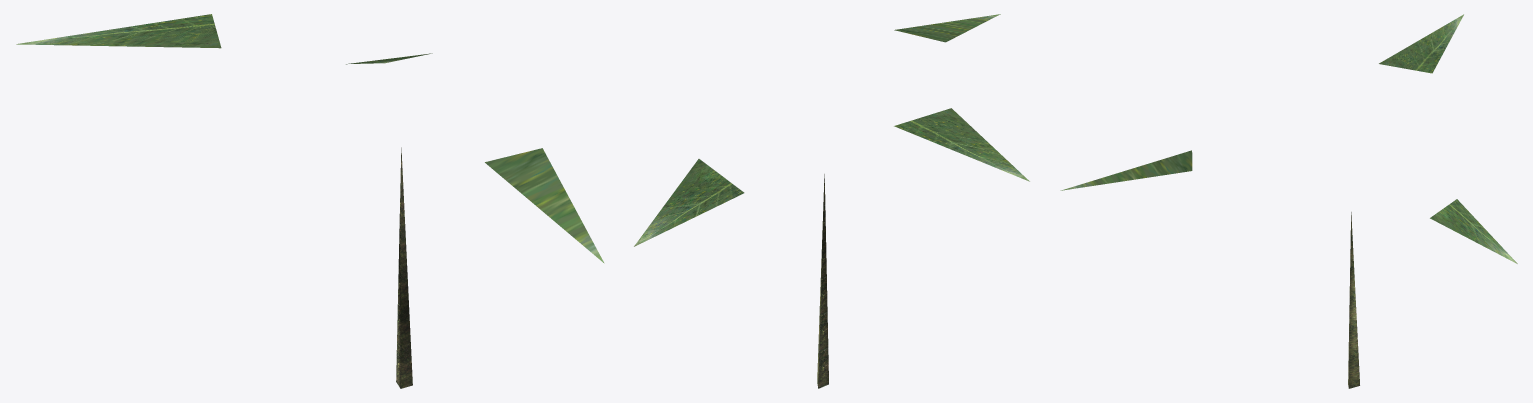
The model's file is leaf_smallflora_a1_l3.fbx.
3 renders of one model, left to right at view 1: azimuth 30°, elevation 25°; view 2: azimuth 150°, elevation 25°; view 3: azimuth 270°, elevation 25°, orthographic. The views are drawn at different scales.
Parts seen in each view (by area): view 1: mesh_node; view 2: mesh_node; view 3: mesh_node.
Part boxes in pixels (x1,y1,x2,y2): mesh_node: (16,14,604,388); mesh_node: (634,14,1029,388); mesh_node: (1060,14,1517,388).
Size of the model in its own units: 1.41 by 1.2 by 1.89.
Materials: 2 (2 with a texture image).
